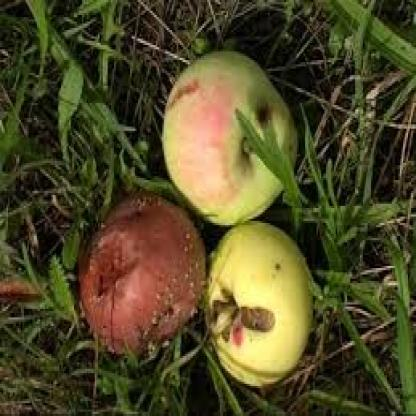damaged_apple: (156, 58, 294, 223), (77, 189, 206, 347), (207, 217, 323, 373)
